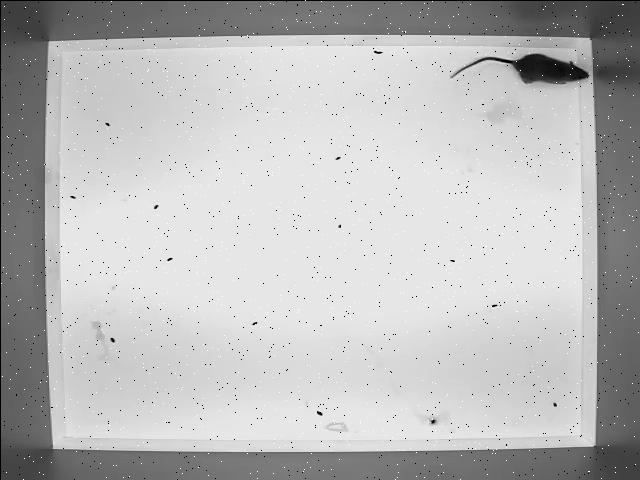Tikus: (428, 52, 594, 90)
